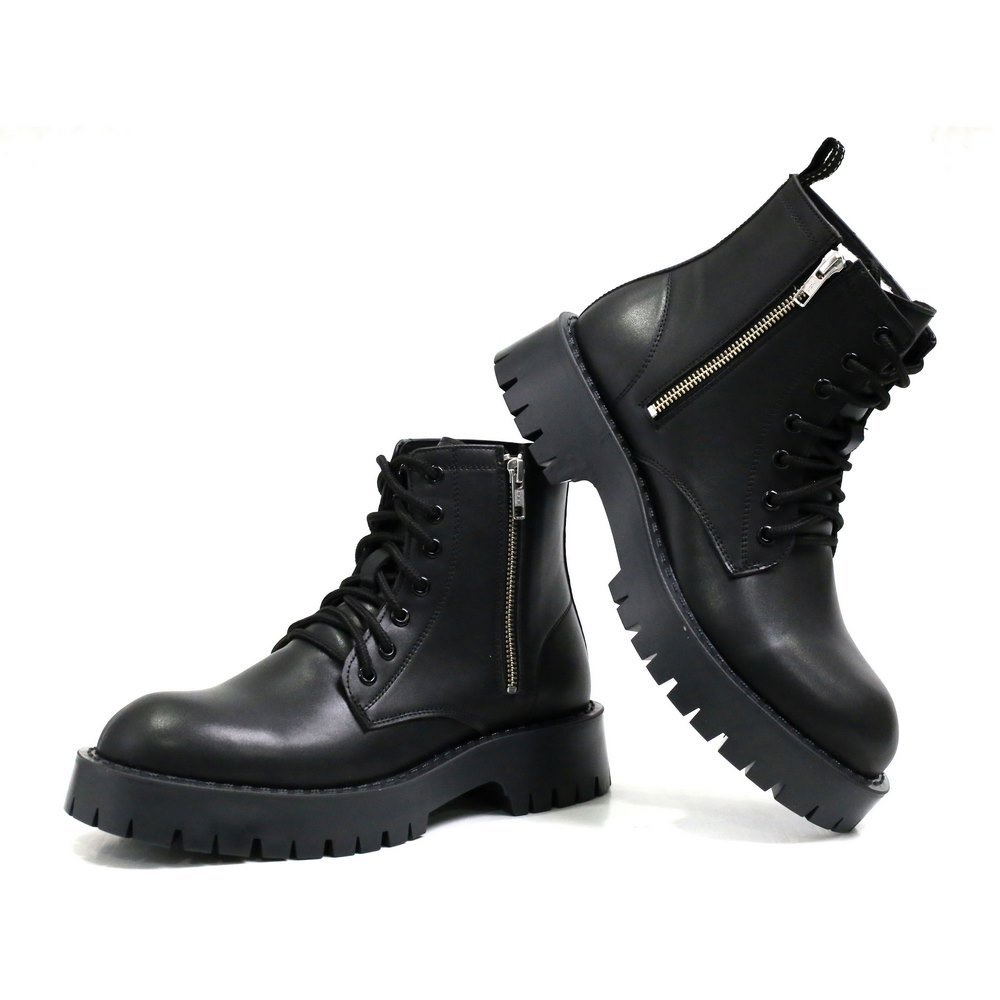boots: (490, 139, 938, 839), (64, 440, 616, 865)
